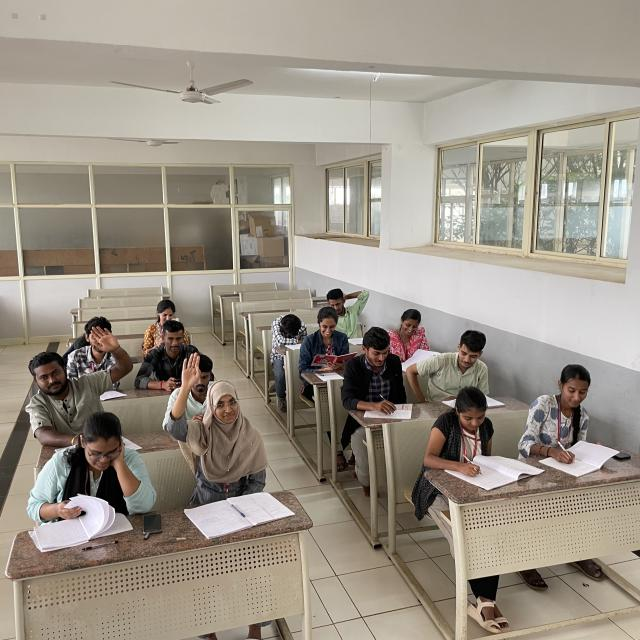Hand Rising: (170, 353, 262, 489), (22, 323, 129, 429)
Reading: (26, 423, 135, 542), (305, 308, 354, 368)
Sleeping: (272, 312, 310, 346)
Using Phone: (136, 322, 185, 394)
Writing: (430, 389, 524, 488), (522, 366, 610, 469), (345, 327, 418, 416)
